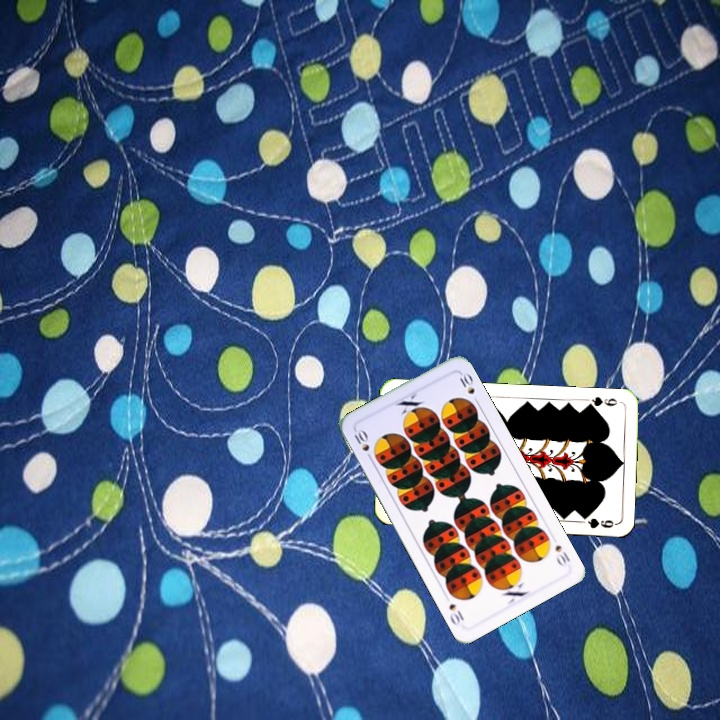G9: (582, 393, 620, 410)
S10: (350, 425, 375, 464), (551, 541, 573, 569)
